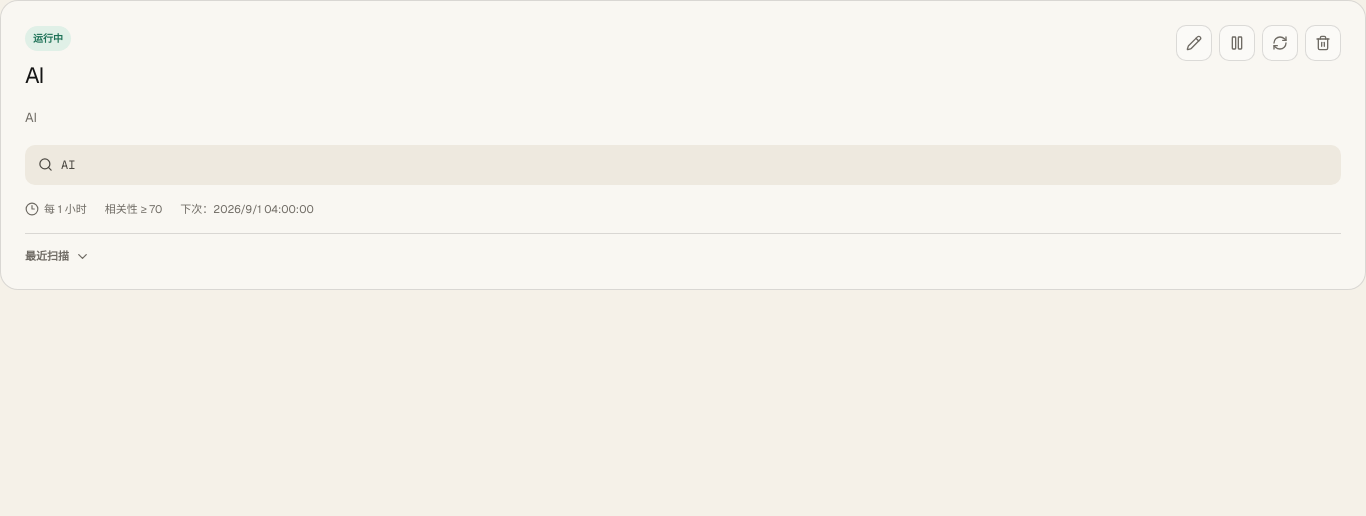
Scenario: RadarList › edits a radar plan and interval
Click the button named "编辑雷达".
click(1194, 43)  # box 1176,25 -> 1212,61
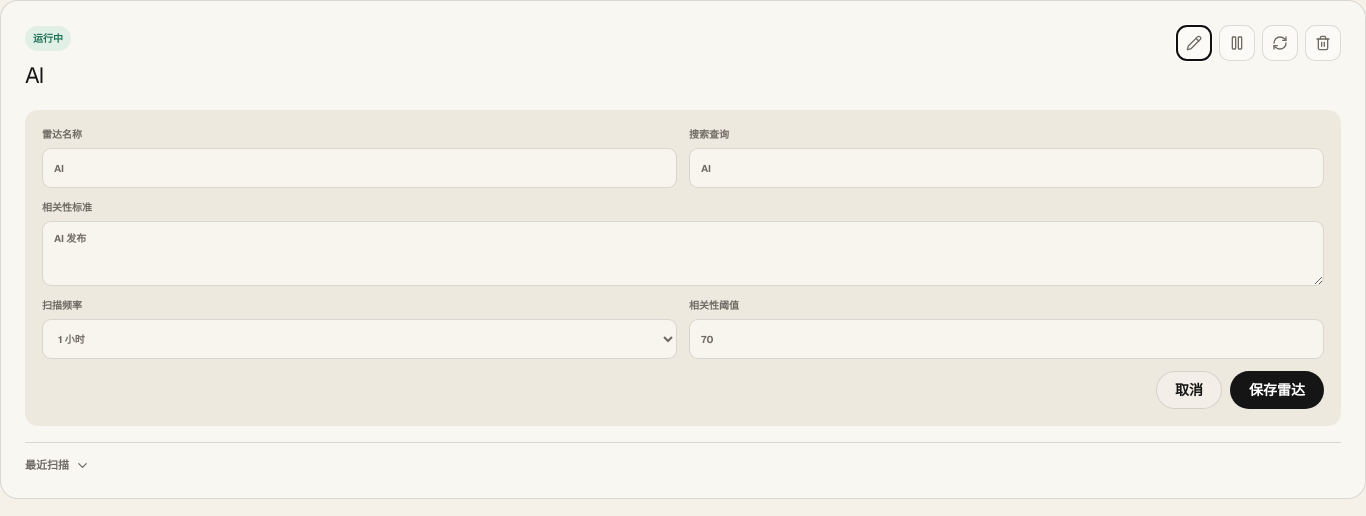
Replace the text in the field labelled "雷达名称" with "Agent 发布" at (360, 168), box 42,148 -> 677,188
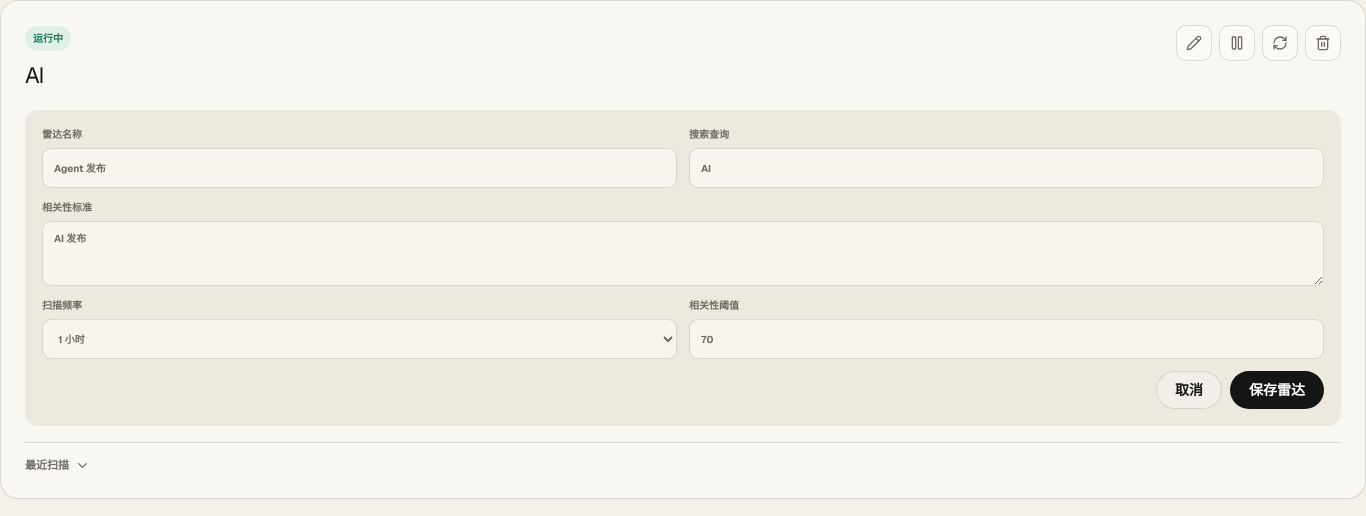
Select "3 小时" in the dropdown labelled "扫描频率" at (360, 339), box 42,319 -> 677,359
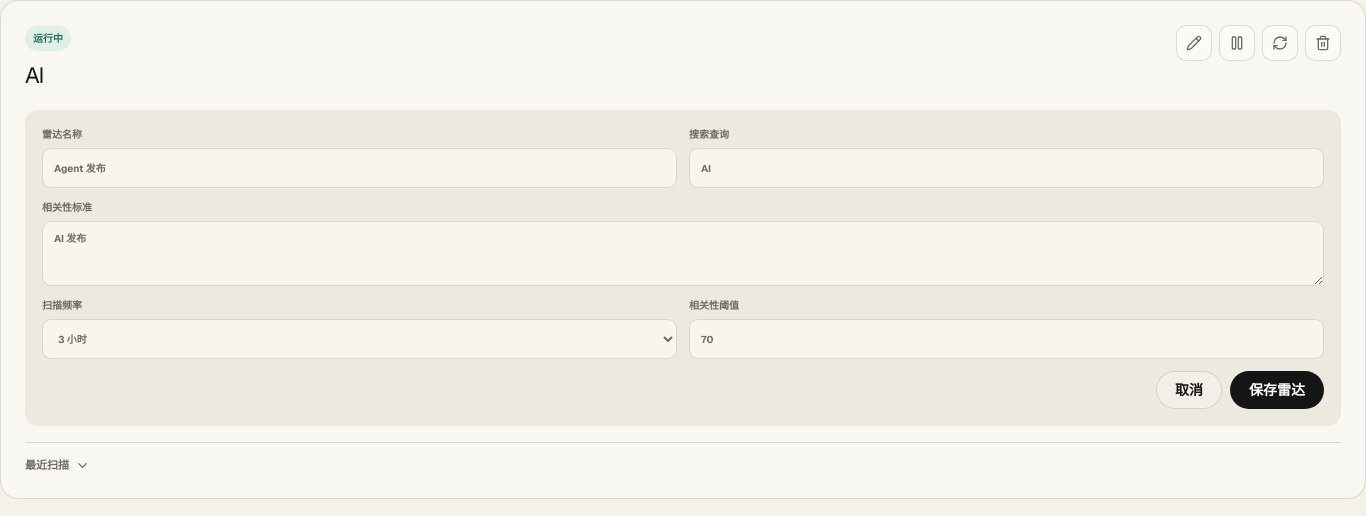
Click the button "保存雷达".
click(1277, 390)  # box 1230,371 -> 1324,409
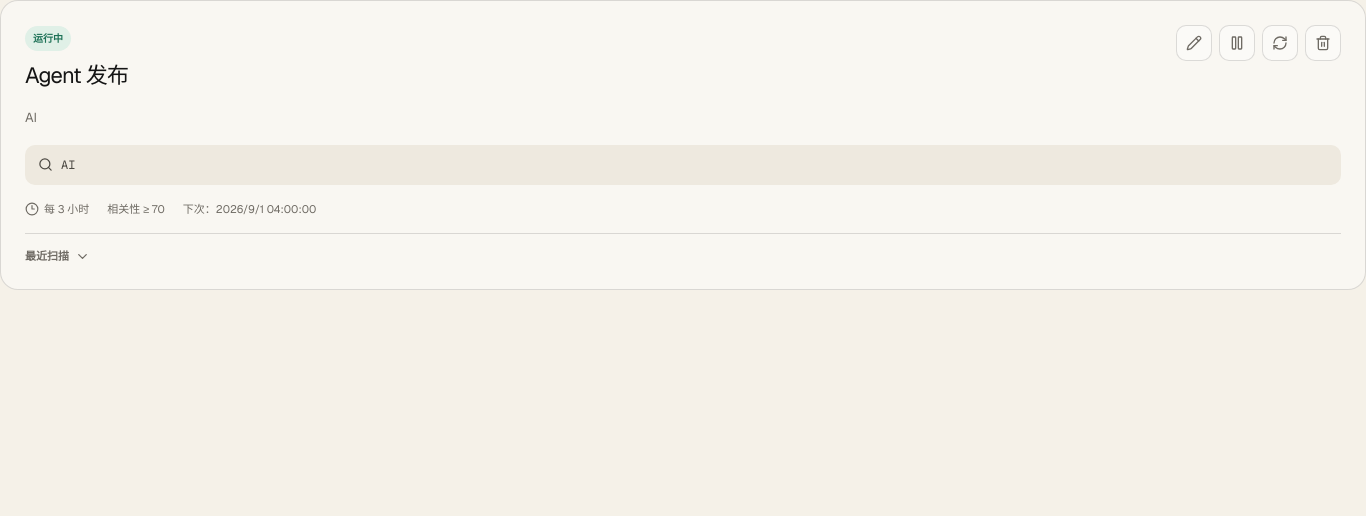
Now the heading "Agent 发布" is shown, box 25,59 -> 128,92
